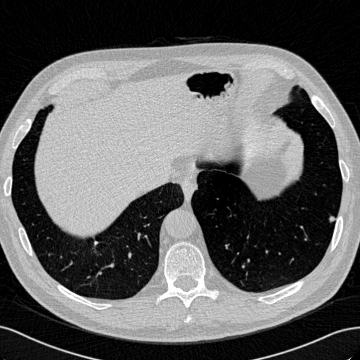nodule: (330, 217, 334, 221)
